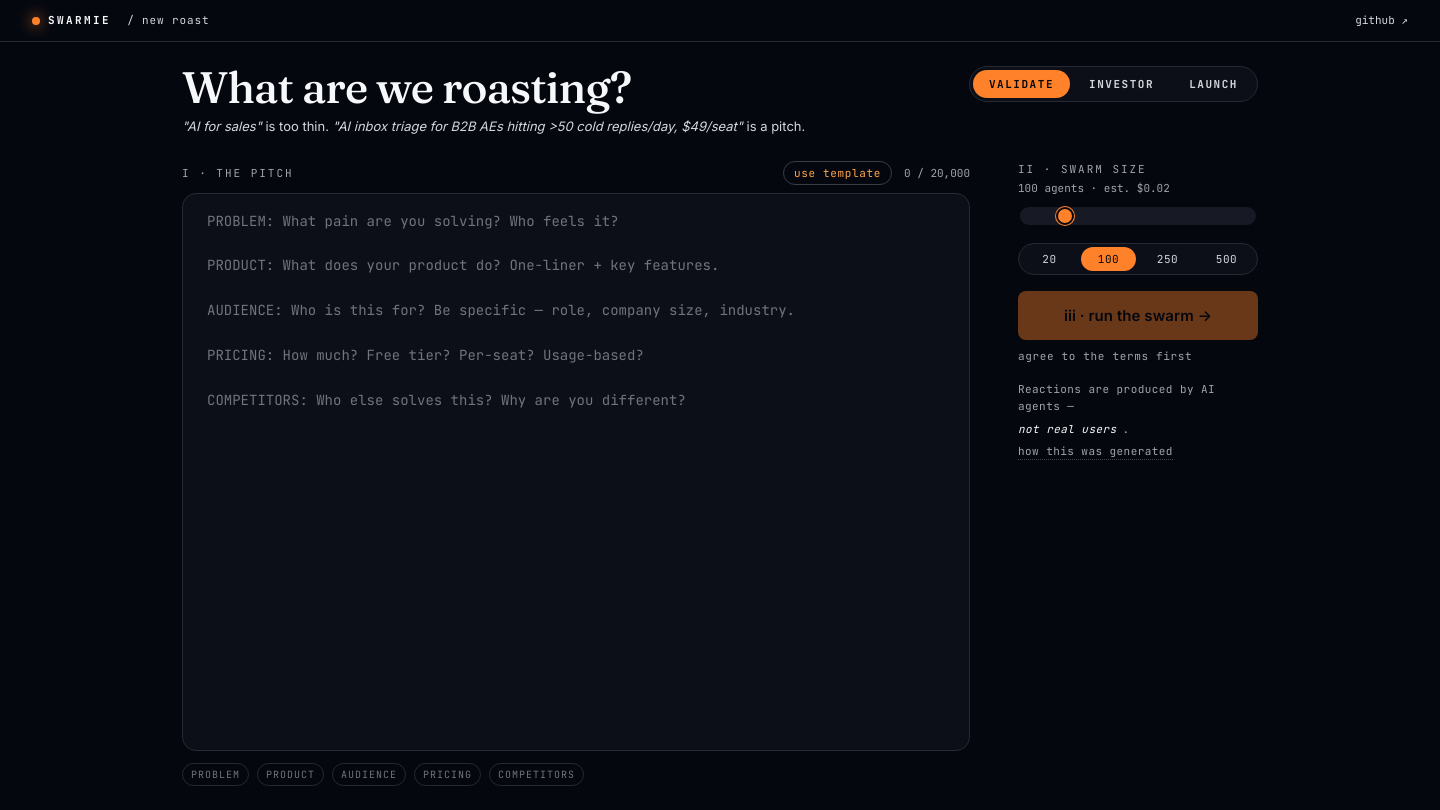
Test: PitchInput — runHint › shows agent count hint when canSubmit is true
Replace the text in the text box with "PROBLEM: We solve the enterprise data silo problem for mid-market SaaS companies in 2024." at coordinates (576, 472), box [182,193,970,750]
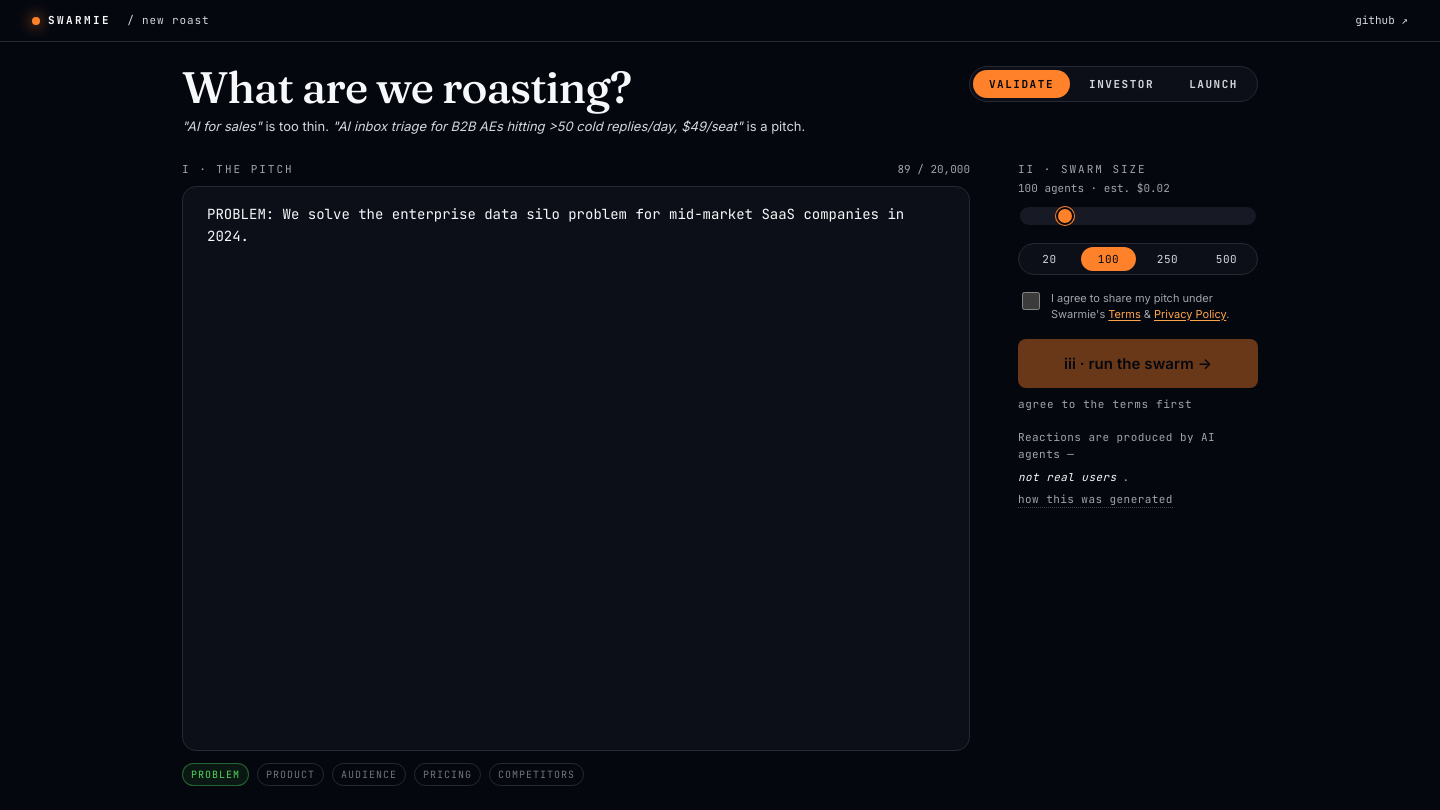
Click the checkbox at coordinates (1031, 301), box [1022,292,1040,310]
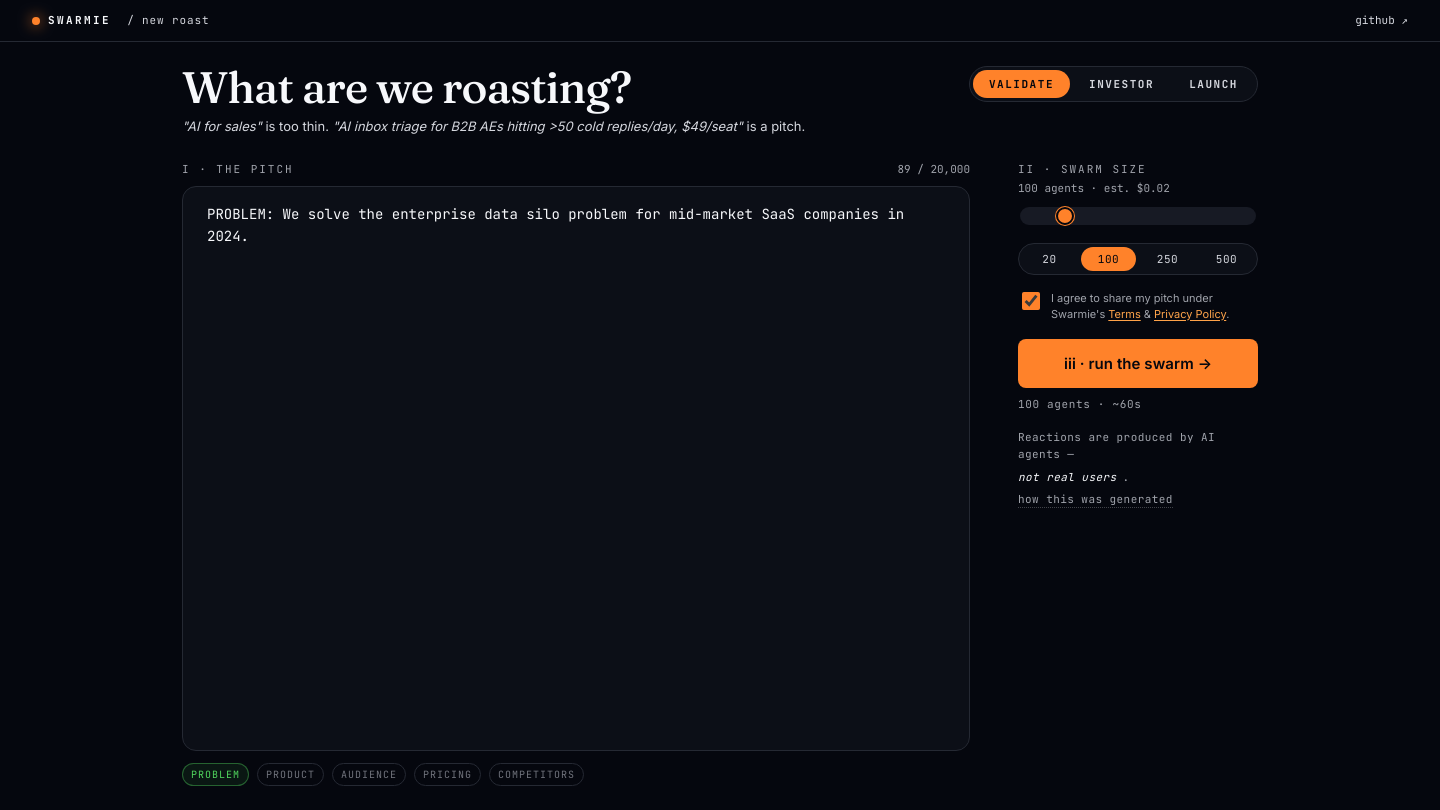
Result: the text with class "actions-hint" shows "agents" at [1018,397,1141,411]
Result: the text with class "actions-hint" shows "60s" at [1018,397,1141,411]
